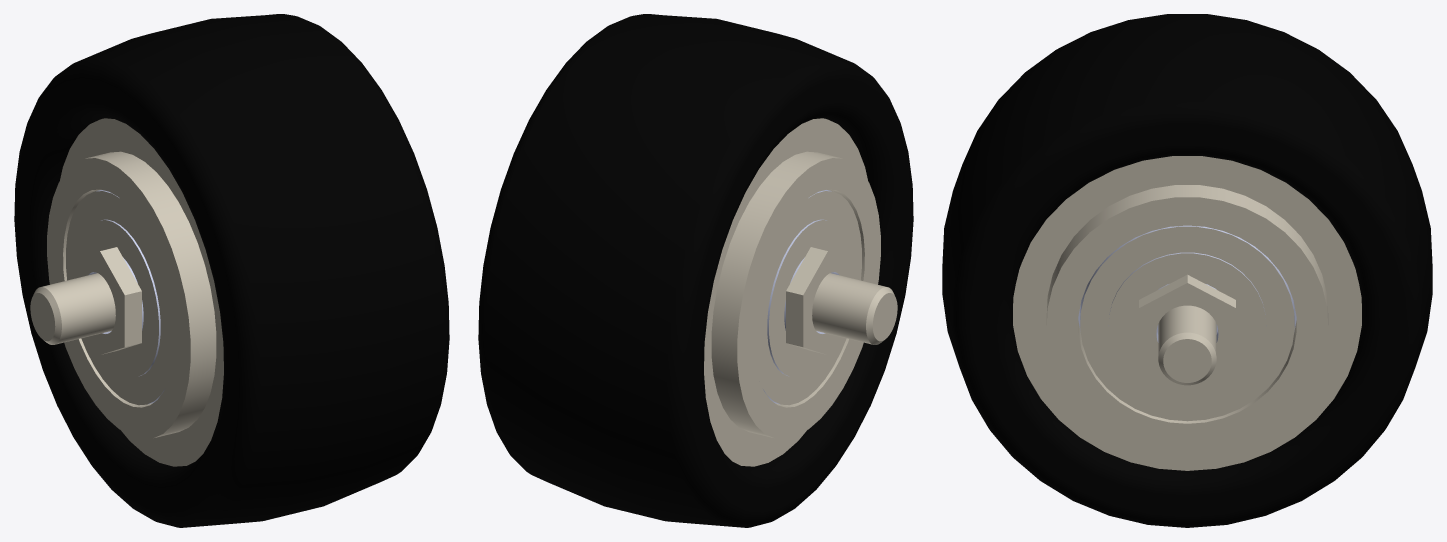
Rendered from 2_inch_daster_wheel.dae.
The picture shows the model from 3 angles, left to right: view 1: azimuth 30°, elevation 25°; view 2: azimuth 150°, elevation 25°; view 3: azimuth 270°, elevation 25°; orthographic projection. The views are drawn at different scales.
Visible parts, largest first — view 1: ID2; view 2: ID2; view 3: ID2.
Part boxes in pixels (x1,y1,x2,y2): ID2: [14, 14, 449, 527]; ID2: [478, 14, 913, 527]; ID2: [942, 14, 1432, 527].
Bounding box in the file's own units: 0.044 × 0.0504 × 0.0504.
